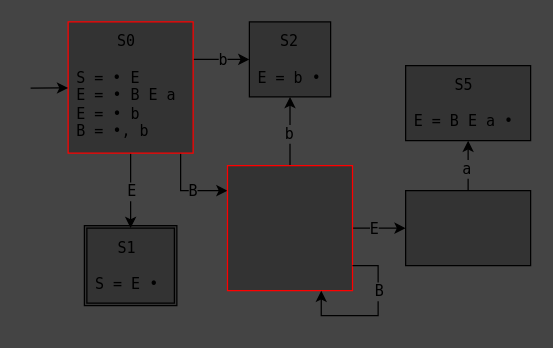
This 553x348 diagram has some shape labels left out. The shapes that lost their labels are listed below. From the top down, each one's centre as x and y in pixels, then its label:
At [289,227]: "S3 E = B • E a E = • B E a E = • b B = •, b".
At [467,227]: "S4 E = B E • a".
